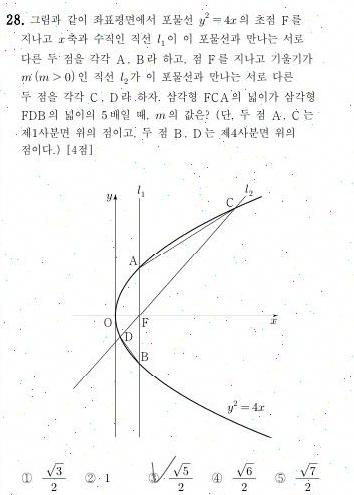choice: (146, 463, 164, 485)
not-choice: (210, 470, 224, 486), (273, 470, 287, 485), (83, 471, 97, 485), (19, 471, 32, 485)
